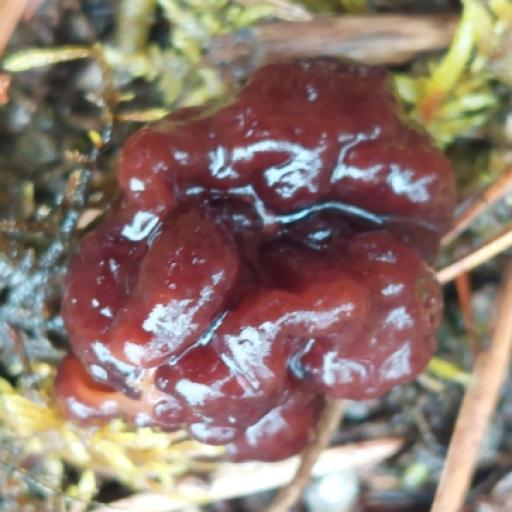mushroom: (46, 28, 470, 482)
